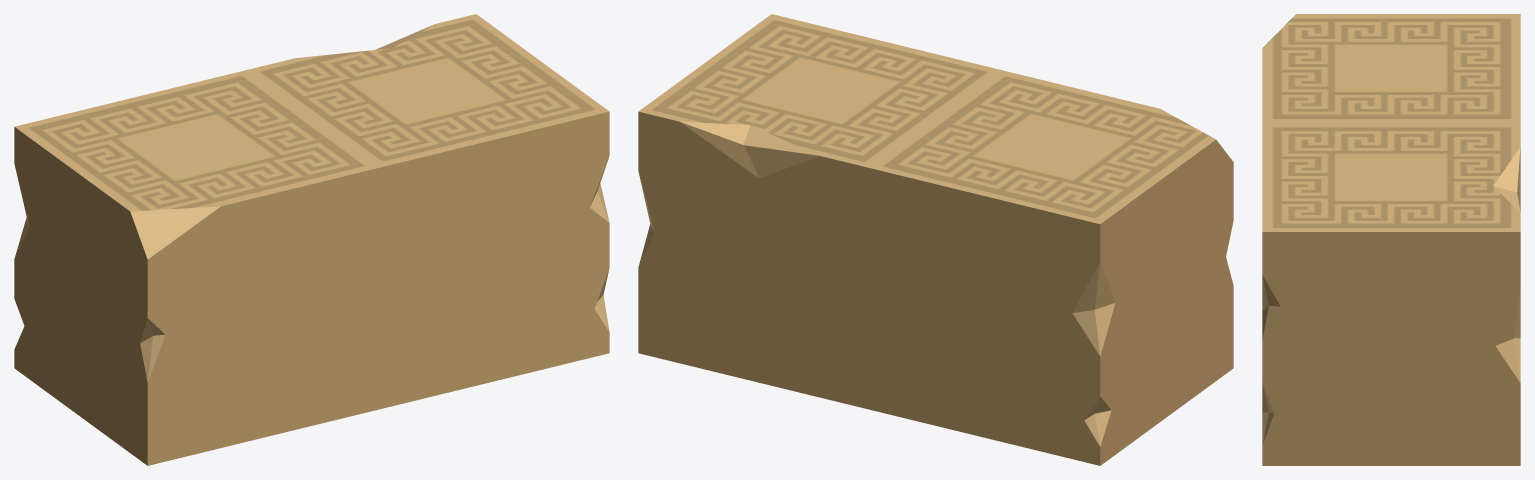
Rendered from ST_Env_Block_011.fbx.
The picture shows the model from 3 angles, left to right: view 1: azimuth 30°, elevation 25°; view 2: azimuth 150°, elevation 25°; view 3: azimuth 270°, elevation 25°; orthographic projection. The views are drawn at different scales.
Visible parts, largest first — view 1: ST_Env_Block_011; view 2: ST_Env_Block_011; view 3: ST_Env_Block_011.
Boxes of the visible parts, <box> form: ST_Env_Block_011: <box>14,14,609,465</box>; ST_Env_Block_011: <box>638,14,1233,465</box>; ST_Env_Block_011: <box>1262,14,1520,465</box>.
Size of the model in its own units: 4 by 2 by 2.
